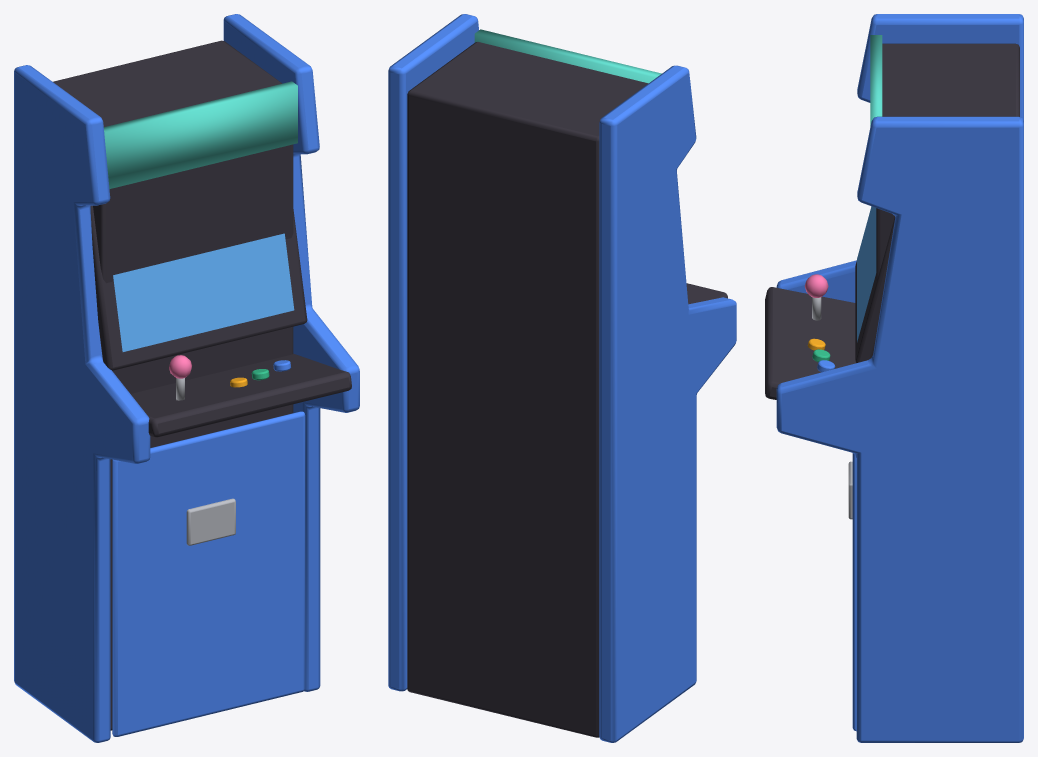
The model's file is arcade_l1.glb.
3 views of the same model, side by side, from view 1: azimuth 30°, elevation 25°; view 2: azimuth 150°, elevation 25°; view 3: azimuth 270°, elevation 25° (orthographic).
Visible parts, largest first — view 1: arcade_l1, arcade2_screen, a__marquee; view 2: arcade_l1, a__marquee; view 3: arcade_l1, arcade2_screen, a__marquee.
Part boxes in pixels (x1,y1,x2,y2): arcade_l1: (14,14,359,742); arcade2_screen: (113,233,294,351); a__marquee: (103,81,297,188); arcade_l1: (388,14,736,742); a__marquee: (474,29,661,83); arcade_l1: (765,14,1023,742); arcade2_screen: (857,206,876,342); a__marquee: (870,35,882,126).
Bounding box in the file's own units: 0.5412 × 1.41 × 0.5325.
